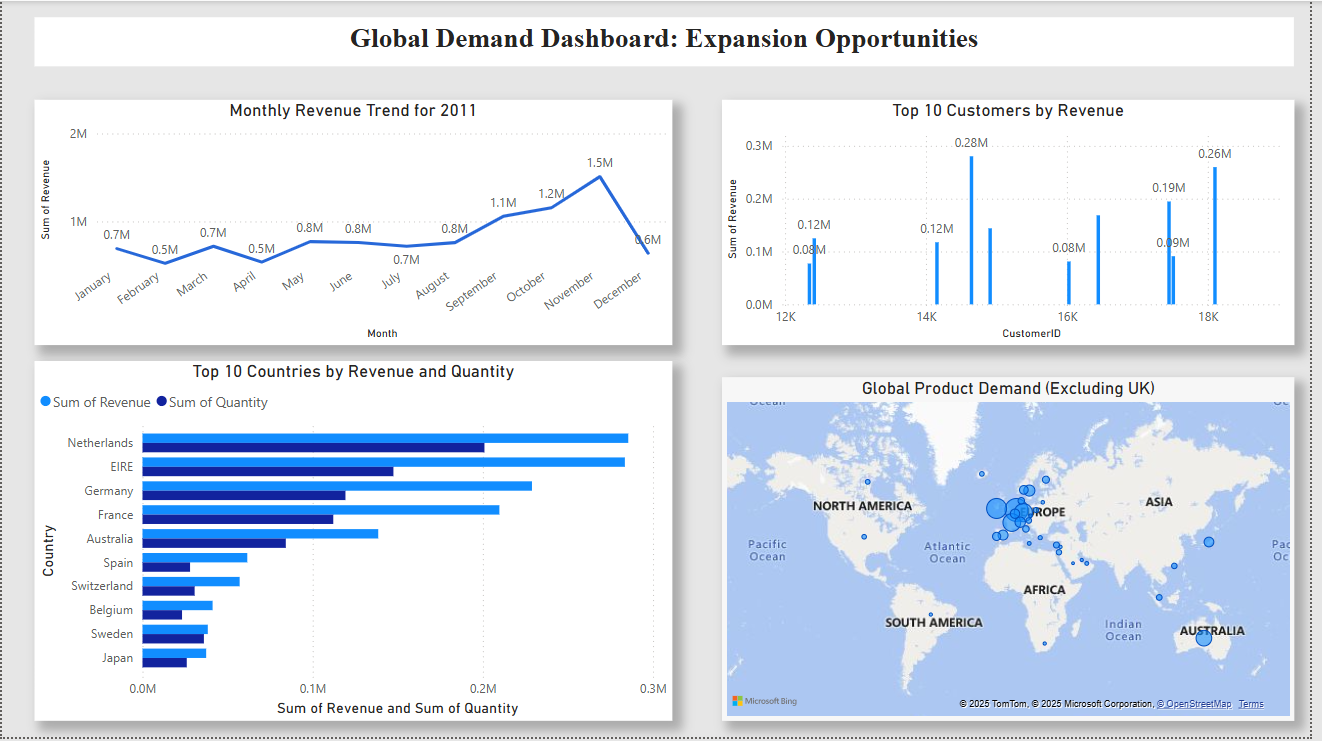

This screenshot's page, from the dashboard's own definition file:
{"tool":"powerbi","page":{"name":"Global Demand Dashboard: Expansion Opportunities","canvas":[1280,720],"ordinal":0},"visuals":[{"type":"lineChart","title":"Monthly Revenue Trend for 2011","fields":{"Category":["Online Retail.InvoiceDate.Variation.Date Hierarchy.Year","Online Retail.InvoiceDate.Variation.Date Hierarchy.Quarter","Online Retail.InvoiceDate.Variation.Date Hierarchy.Month","Online Retail.InvoiceDate.Variation.Date Hierarchy.Day"],"Y":["Sum(Online Retail.Revenue)"]},"box":[32,96,624,240],"z":0},{"type":"clusteredBarChart","title":"Top 10 Countries by Revenue and Quantity ","fields":{"Category":["Online Retail.Country"],"Y":["Sum(Online Retail.Revenue)","Sum(Online Retail.Quantity)"]},"box":[32,352,624,352],"z":1000},{"type":"clusteredColumnChart","title":"Top 10 Customers by Revenue","fields":{"Y":["Sum(Online Retail.Revenue)"],"Category":["Online Retail.CustomerID"]},"box":[704,96,560,240],"z":2000},{"type":"map","title":"Global Product Demand (Excluding UK)","fields":{"Category":["Online Retail.Country"],"Size":["Sum(Online Retail.Quantity)"]},"box":[704,368,560,336],"z":3000},{"type":"textbox","box":[32,16,1232,48],"z":4000}]}

Visuals, with their boxes in screenshot pixels (x1, y1, x2, y2), scaled from the page's 1280x720 canvas onto the 1322x741 screenshot:
"Monthly Revenue Trend for 2011" lineChart: rect(33, 99, 678, 346)
"Top 10 Countries by Revenue and Quantity " clusteredBarChart: rect(33, 362, 678, 725)
"Top 10 Customers by Revenue" clusteredColumnChart: rect(727, 99, 1305, 346)
"Global Product Demand (Excluding UK)" map: rect(727, 379, 1305, 725)
textbox: rect(33, 16, 1305, 66)
